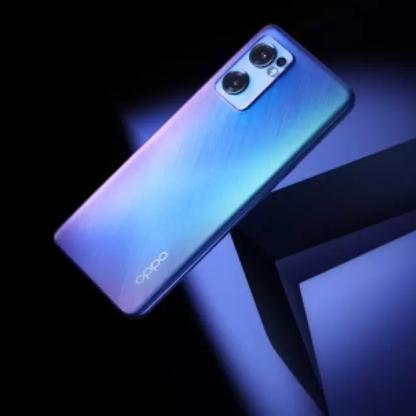not trash: (52, 31, 348, 313)
